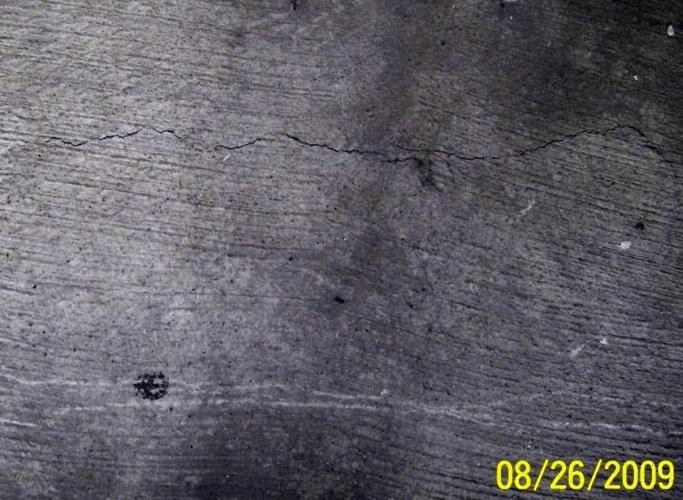Crack: (43, 123, 660, 163)
